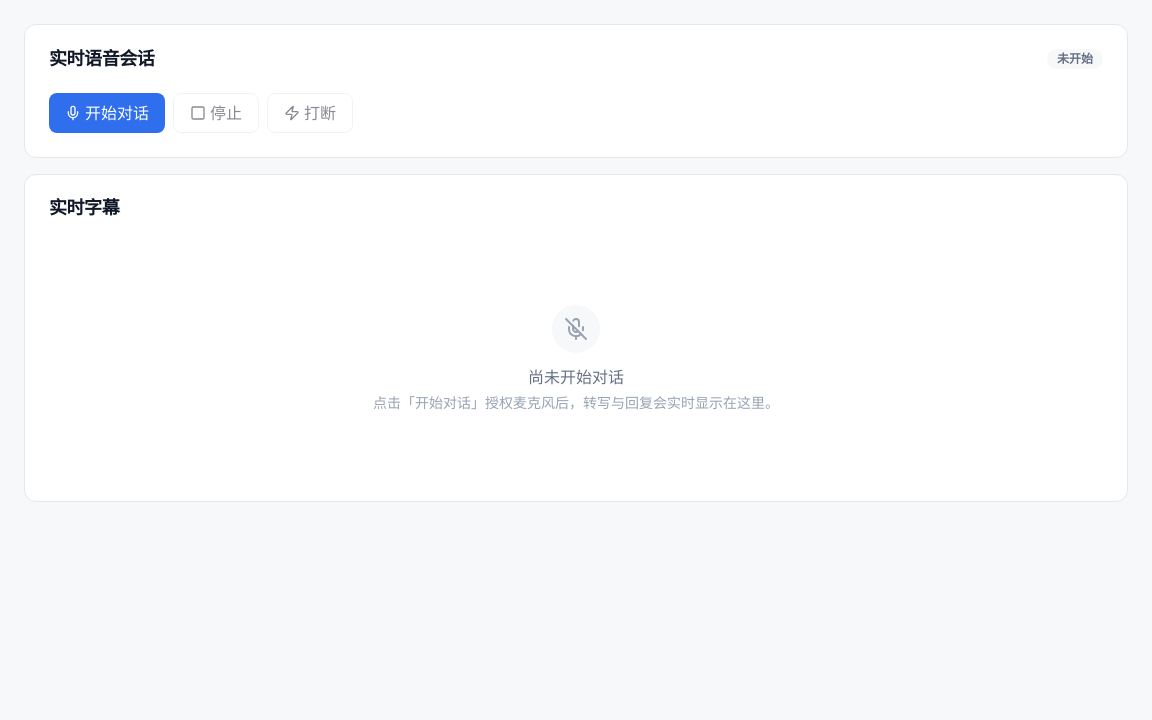
Test case: RealtimeVoicePage › 开始 → ready：连接中转到聆听中、启动采集并展示会话参数
Later steps or results of the test are not shown.
Click the button "开始对话". click: (107, 113)
box: [49,93,165,133]
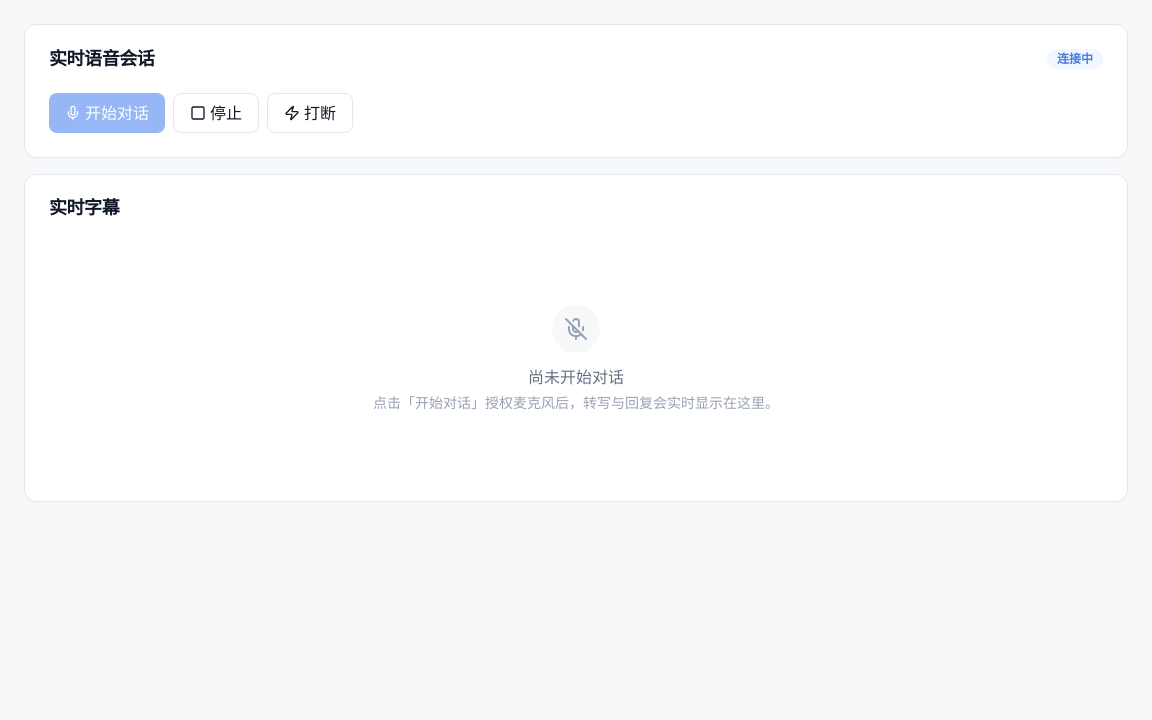
Result: the text named "会话状态" reads "连接中" at [1057,51,1093,66]
